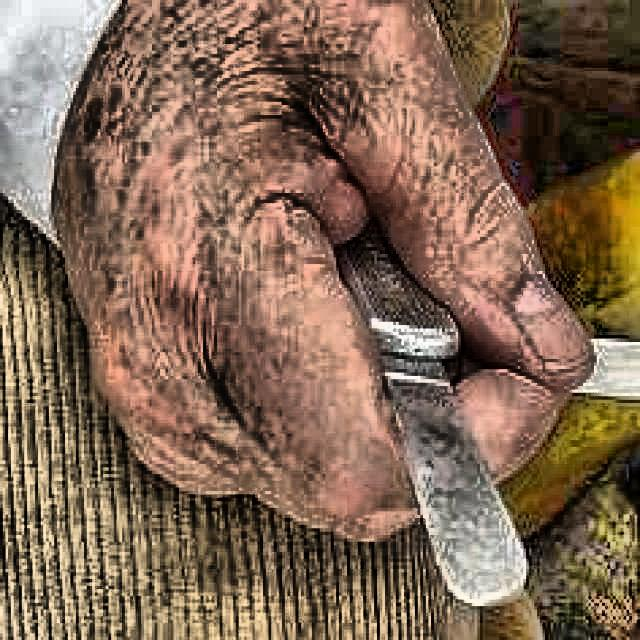knife: (337, 223, 528, 606)
